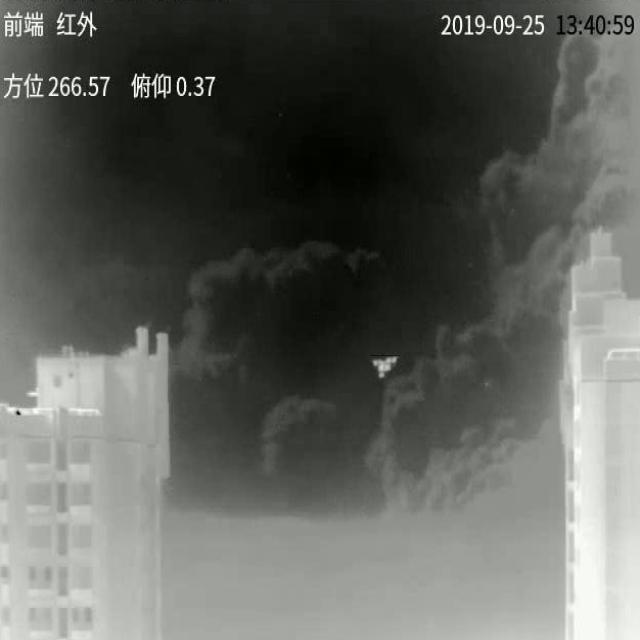drone: (371, 356, 400, 378)
